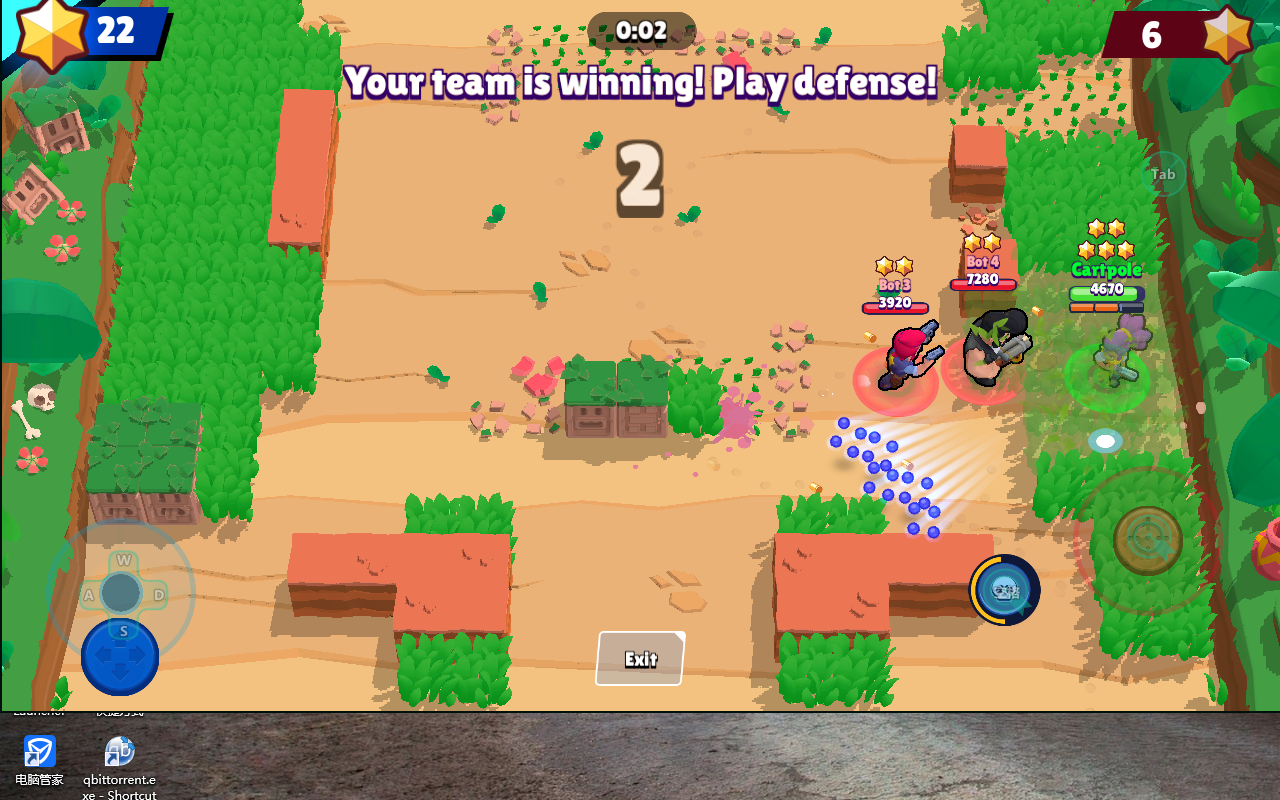current_player: (1068, 343, 1149, 414)
